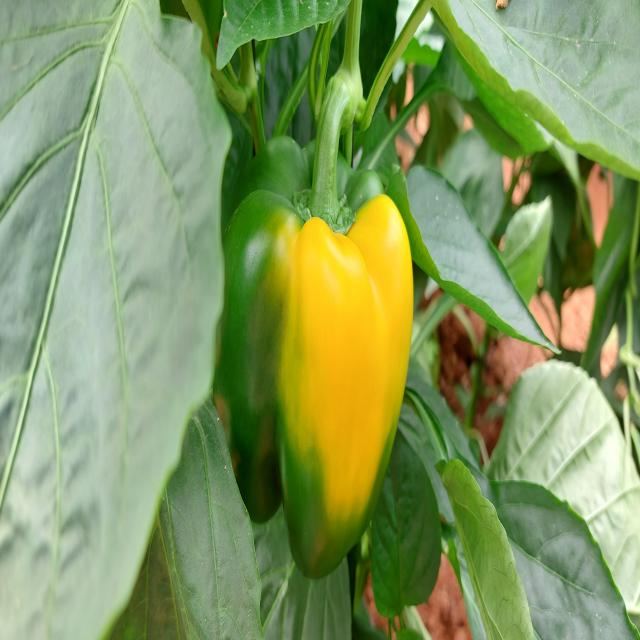Green--Not-ready-to-harvest: (221, 103, 416, 566)
